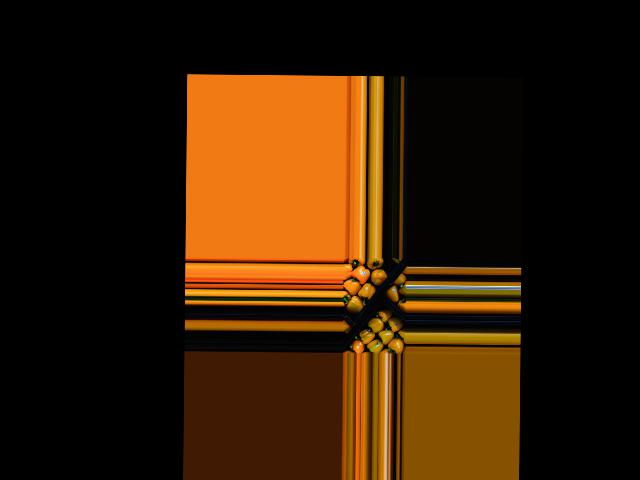bell_pepper: (390, 334, 406, 353)
